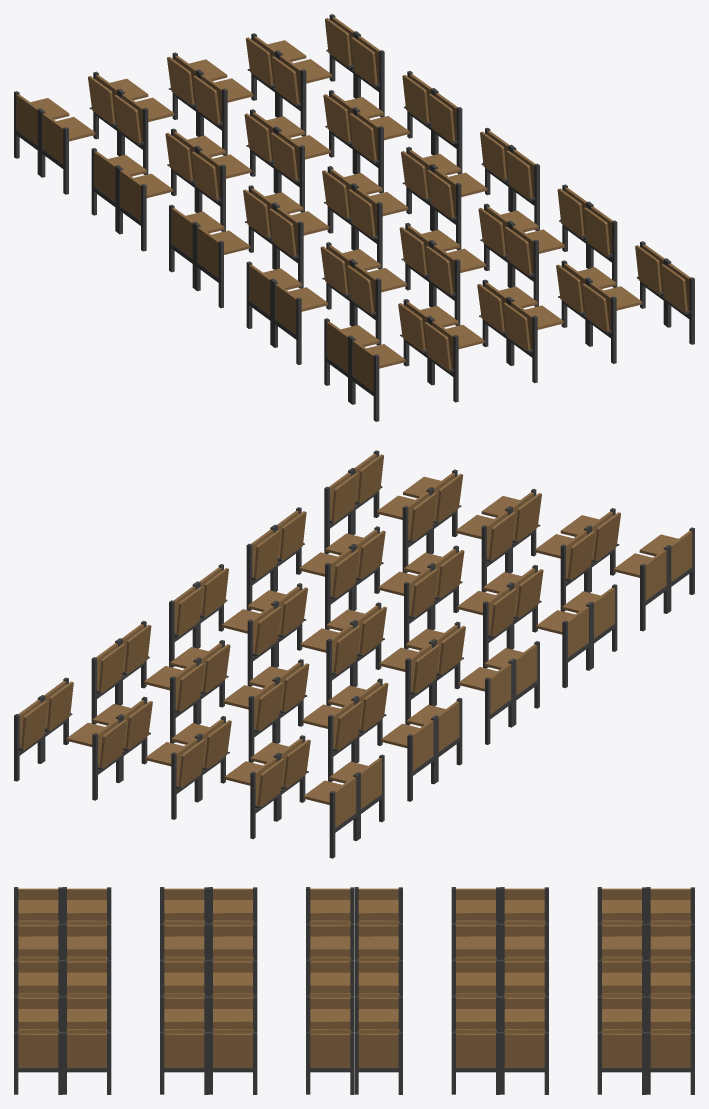
The model's file is File_banchi_2.fbx.
3 views of the same model, one above another, from view 1: azimuth 30°, elevation 25°; view 2: azimuth 150°, elevation 25°; view 3: azimuth 270°, elevation 25° (orthographic). The views are drawn at different scales.
Visible parts, largest first — view 1: Fila_joined_new.001; view 2: Fila_joined_new.001; view 3: Fila_joined_new.001.
Part boxes in pixels (bbox=[...]): Fila_joined_new.001: bbox=[14, 14, 694, 421]; Fila_joined_new.001: bbox=[14, 450, 694, 858]; Fila_joined_new.001: bbox=[14, 887, 694, 1094].
Size of the model in its own units: 985 by 193 by 1936.
